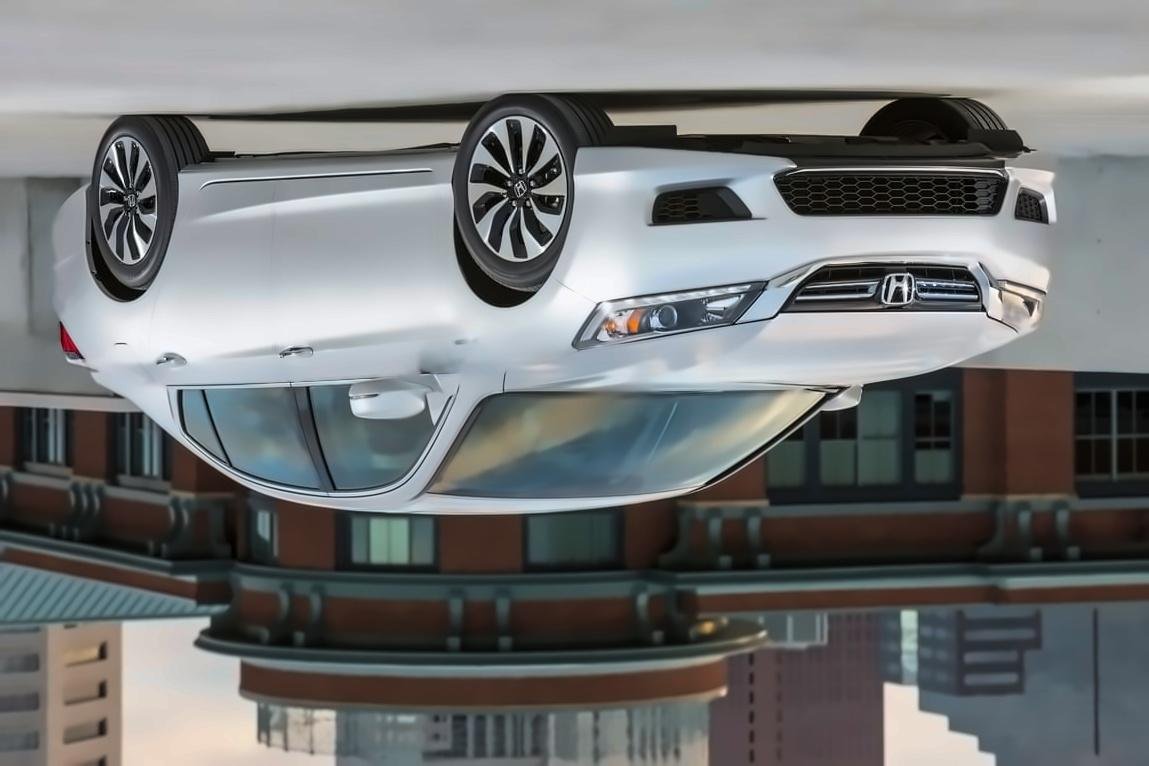Car hood: (501, 306, 1024, 395)
Fender - -F-L-: (440, 165, 596, 411)
Fender - -R-L-: (68, 175, 193, 353)
Front bumper: (551, 133, 1070, 303)
Headlight - -L-: (565, 271, 773, 357)
Headlight - -R-: (979, 266, 1050, 343)
Passenger-s door - -F-L-: (278, 162, 441, 504)
Passenger-s door - -R-L-: (144, 161, 328, 505)
Rear bumper: (40, 173, 97, 307)
Rear light - -L-: (48, 310, 104, 379)
Side bumper - -L-: (164, 141, 465, 226)
Side mirror - -L-: (339, 371, 440, 431)
Side mirror - -R-: (818, 376, 878, 422)
